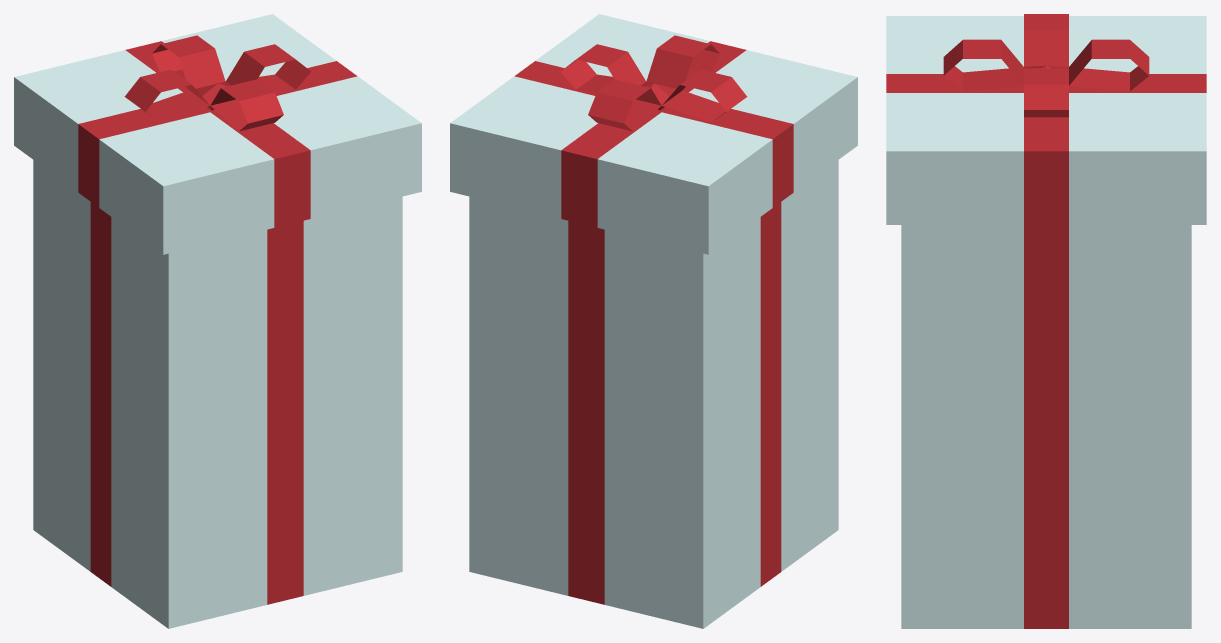
The model's file is props_present-box-block.fbx.
3 views of the same model, side by side, from view 1: azimuth 30°, elevation 25°; view 2: azimuth 150°, elevation 25°; view 3: azimuth 270°, elevation 25° (orthographic). The views are drawn at different scales.
Visible parts, largest first — view 1: present_box_block_base, present_box_block_top; view 2: present_box_block_base, present_box_block_top; view 3: present_box_block_base, present_box_block_top.
Part boxes in pixels (box(x1,y1,x2,y2)): present_box_block_base: box(33, 160, 402, 628); present_box_block_top: box(14, 14, 421, 254); present_box_block_base: box(469, 160, 838, 628); present_box_block_top: box(450, 14, 857, 254); present_box_block_base: box(901, 225, 1191, 628); present_box_block_top: box(886, 14, 1206, 224).
Size of the model in its own units: 112 by 200 by 112.
